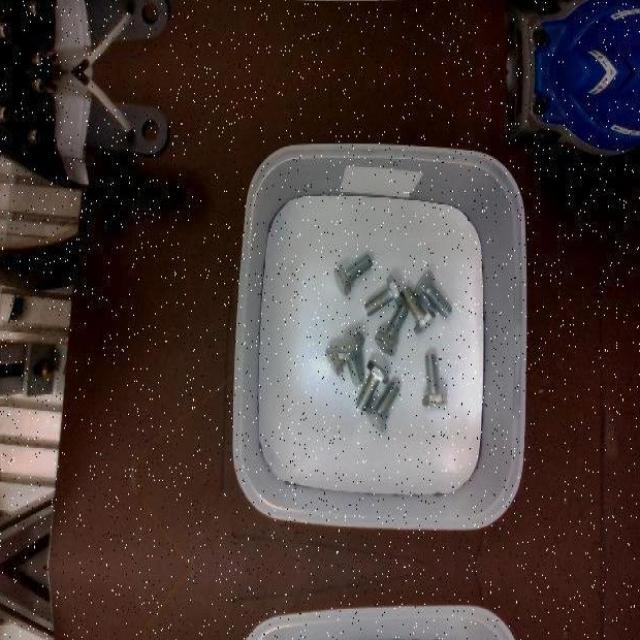screw: (364, 379, 400, 431), (413, 270, 452, 318), (355, 358, 388, 412), (374, 302, 408, 354), (332, 253, 372, 296), (402, 285, 436, 333), (364, 274, 402, 316), (338, 334, 364, 386), (422, 353, 448, 405)
